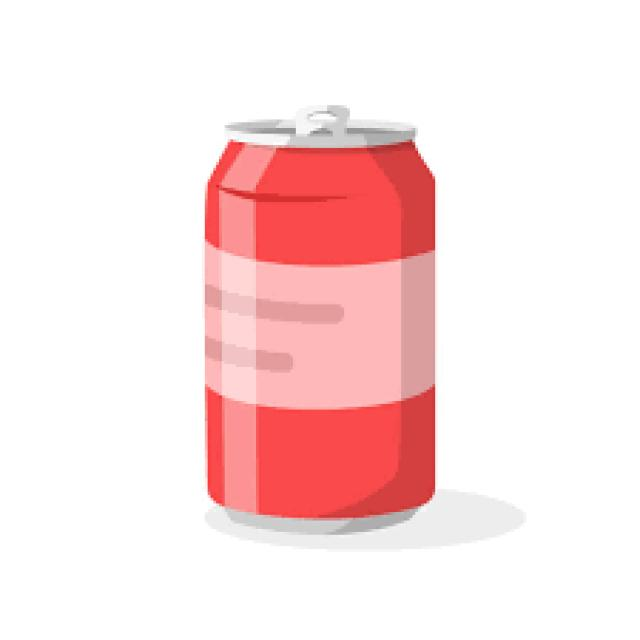Cans: (193, 96, 458, 538)
